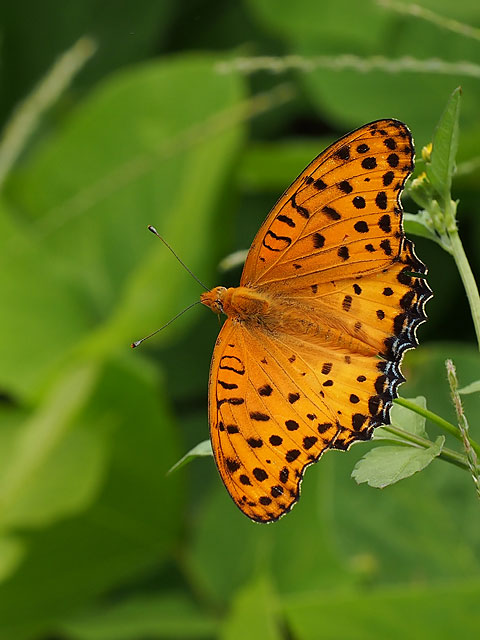Argyreus hyperbius: (127, 115, 438, 527)
butterfly: (129, 117, 440, 529)
